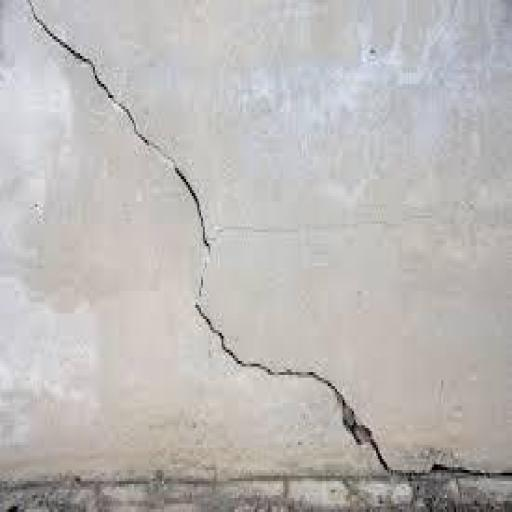spalling: (24, 7, 395, 467)
